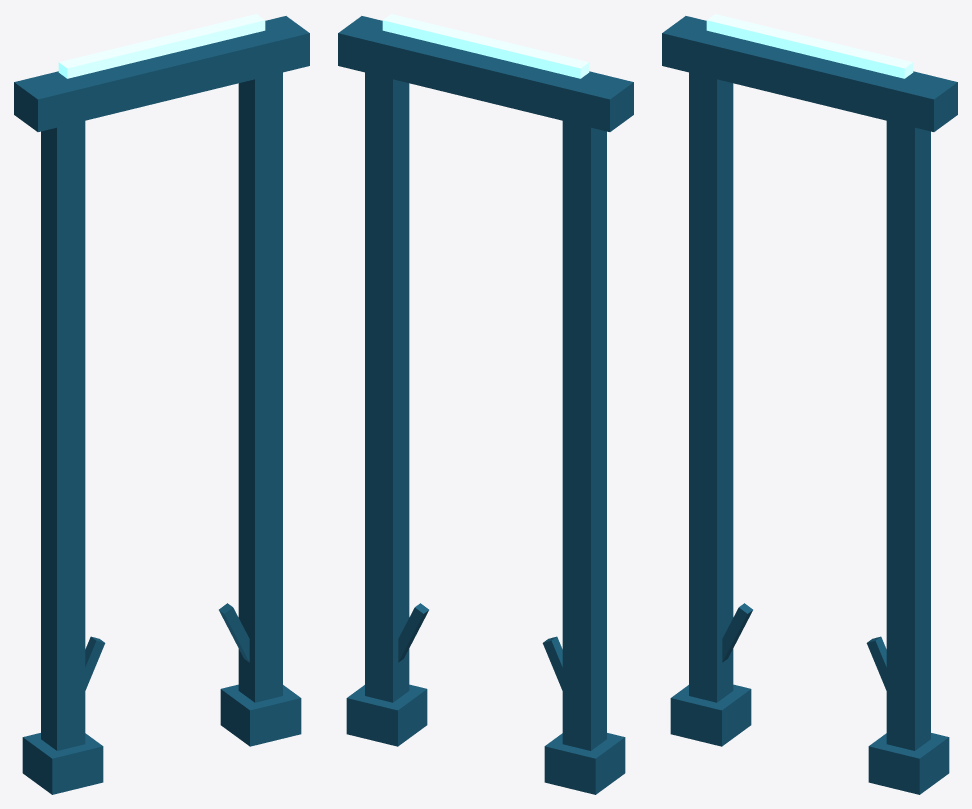
File: sci-fi-wasteland-archway.collider.glb
3 renders of one model, left to right at view 1: azimuth 30°, elevation 25°; view 2: azimuth 150°, elevation 25°; view 3: azimuth 330°, elevation 25°, orthographic.
Parts seen in each view (by area): view 1: wasteland-archway-body, wasteland-archway-emissive; view 2: wasteland-archway-body, wasteland-archway-emissive; view 3: wasteland-archway-body, wasteland-archway-emissive.
Boxes of the visible parts, x1,y1,x2,y2 form: wasteland-archway-body: [14, 16, 309, 794]; wasteland-archway-emissive: [58, 14, 265, 78]; wasteland-archway-body: [338, 16, 633, 794]; wasteland-archway-emissive: [382, 14, 589, 78]; wasteland-archway-body: [662, 16, 957, 794]; wasteland-archway-emissive: [706, 14, 913, 78].
Bounding box in the file's own units: 3.3 × 8.26 × 0.6197.
